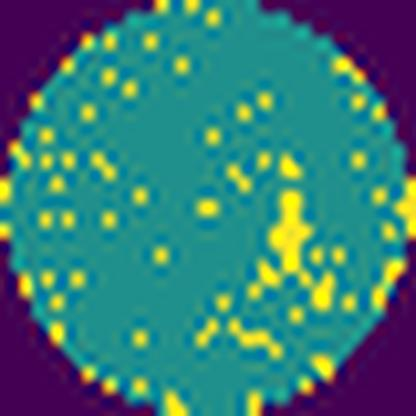Edge-Loc: (264, 188, 314, 277)
